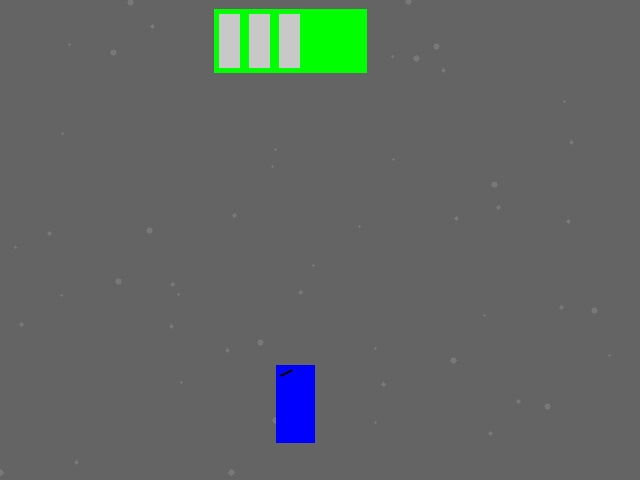bus: (214, 9, 366, 72)
motorcycle: (276, 365, 314, 442)
